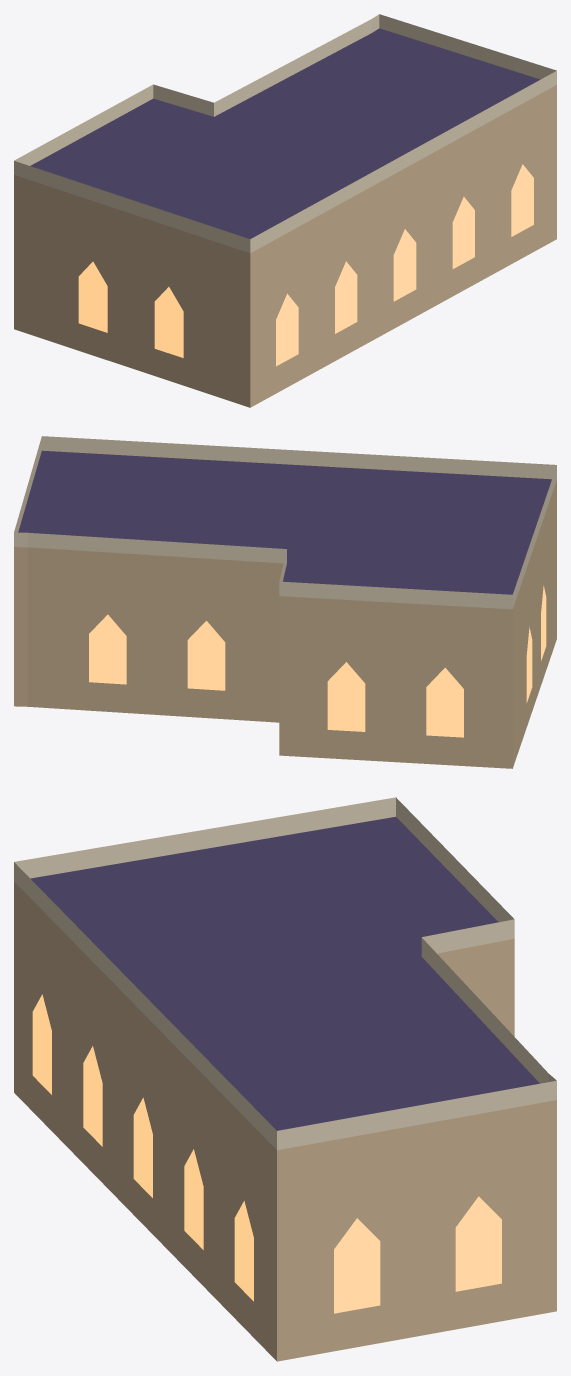
3 renders of one model, top to bottom at view 1: azimuth 30°, elevation 25°; view 2: azimuth 150°, elevation 25°; view 3: azimuth 270°, elevation 25°, orthographic. The views are drawn at different scales.
Parts seen in each view (by area): view 1: campus/b-053-0; view 2: campus/b-053-0; view 3: campus/b-053-0.
Part boxes in pixels (<box>): campus/b-053-0: <box>14,14,556,407</box>; campus/b-053-0: <box>14,436,556,768</box>; campus/b-053-0: <box>14,797,556,1361</box>.
Size of the model in its own units: 20.31 by 6.55 by 13.97.
